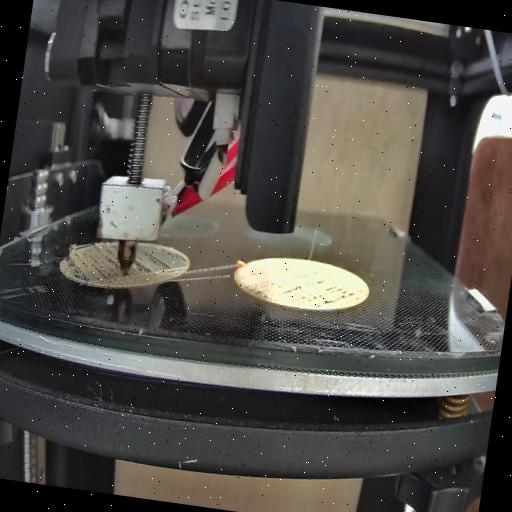under_extrusion: (283, 270, 365, 316), (59, 238, 121, 288), (132, 244, 189, 288), (238, 270, 278, 302)
